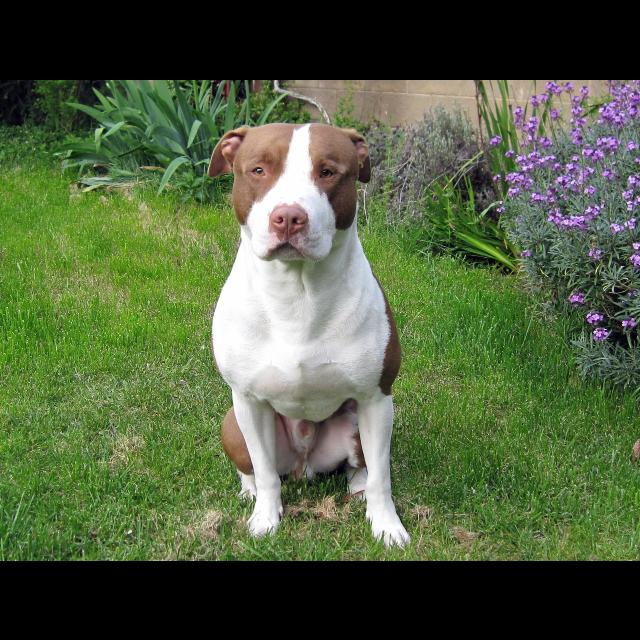am_pit_bull_terrier: (208, 121, 413, 551)
